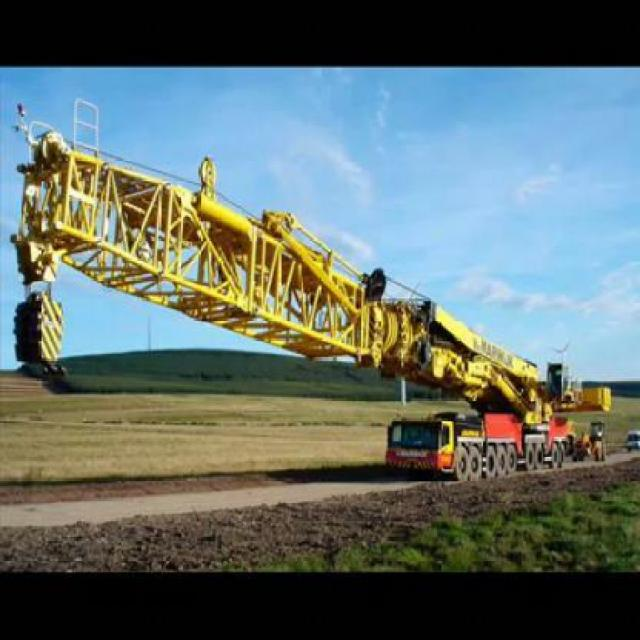Mobile Crane: (12, 96, 571, 484)
